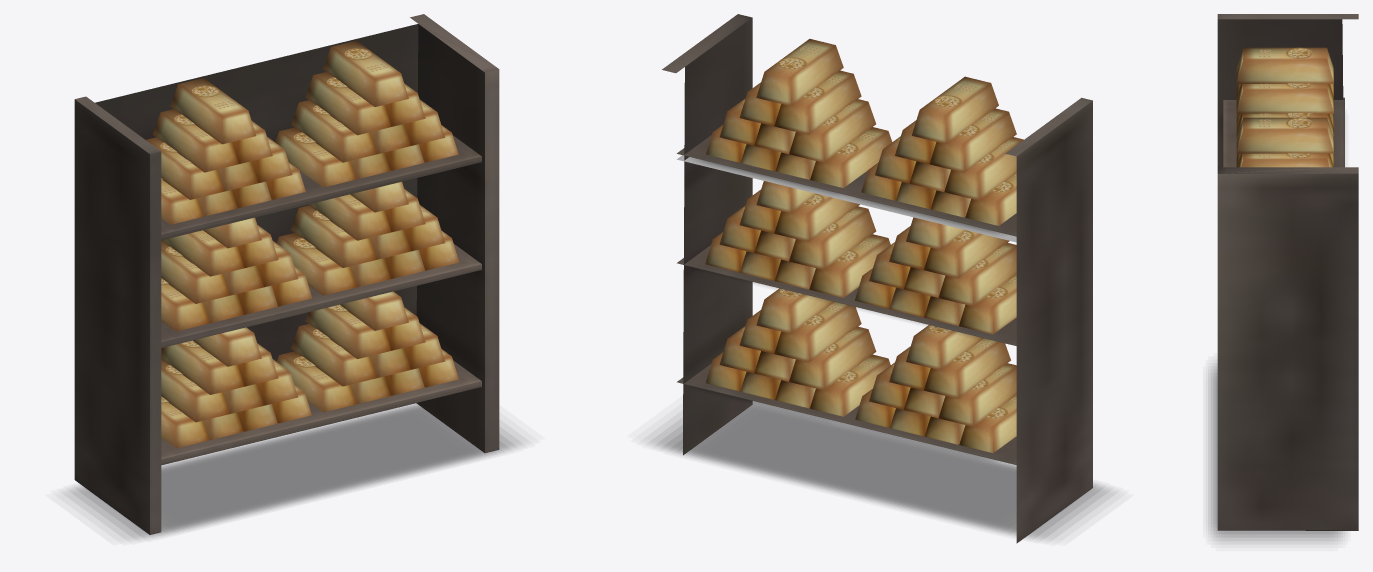
File: mintShelf_12700.glb
3 renders of one model, left to right at view 1: azimuth 30°, elevation 25°; view 2: azimuth 150°, elevation 25°; view 3: azimuth 270°, elevation 25°, orthographic. The views are drawn at different scales.
Parts seen in each view (by area): view 1: polySurface2, shadow, GoldBar6 (×6), GoldBar18 (×6), GoldBar5 (×6), GoldBar21 (×6), GoldBar16 (×6), GoldBar4 (×6), GoldBar17 (×6), GoldBar22 (×6), polySurface3, polySurface5 (+3 smaller); view 2: polySurface2, shadow, GoldBar18 (×6), GoldBar6 (×6), GoldBar5 (×6), GoldBar21 (×6), GoldBar16 (×6), GoldBar4 (×6), GoldBar17 (×6), GoldBar22 (×6), polySurface3, GoldBar19 (×6) (+3 smaller); view 3: polySurface2, GoldBar5 (×2), GoldBar4 (×2), shadow, polySurface3, GoldLogo (×2), GoldBar16.
Part boxes in pixels (<box>): polySurface2: <box>74,14,499,534</box>; shadow: <box>64,403,522,539</box>; GoldBar6 (×6): <box>153,72,391,394</box>; GoldBar18 (×6): <box>146,100,376,422</box>; GoldBar5 (×6): <box>170,40,408,366</box>; GoldBar21 (×6): <box>161,127,356,448</box>; GoldBar16 (×6): <box>251,99,445,405</box>; GoldBar4 (×6): <box>232,83,425,386</box>; GoldBar17 (×6): <box>217,124,410,413</box>; GoldBar22 (×6): <box>266,125,459,423</box>; polySurface3: <box>161,135,481,240</box>; polySurface5: <box>161,360,481,464</box>; polySurface2: <box>662,14,1092,543</box>; shadow: <box>649,401,1115,539</box>; GoldBar18 (×6): <box>789,99,1023,426</box>; GoldBar6 (×6): <box>774,70,1016,398</box>; GoldBar5 (×6): <box>756,39,998,370</box>; GoldBar21 (×6): <box>809,127,1016,453</box>; GoldBar16 (×6): <box>719,98,916,409</box>; GoldBar4 (×6): <box>739,82,936,390</box>; GoldBar17 (×6): <box>754,123,950,418</box>; GoldBar22 (×6): <box>705,125,901,427</box>; polySurface3: <box>676,135,1016,242</box>; GoldBar19 (×6): <box>774,152,970,444</box>; polySurface2: <box>1217,14,1358,530</box>; GoldBar5 (×2): <box>1236,47,1333,153</box>; GoldBar4 (×2): <box>1236,84,1333,167</box>; shadow: <box>1208,363,1344,541</box>; polySurface3: <box>1223,97,1344,167</box>; GoldLogo (×2): <box>1286,47,1312,128</box>; GoldBar16: <box>1236,113,1333,137</box>.
Size of the model in its own units: 18.11 by 14.25 by 5.81.
7 materials, 6 textured.
